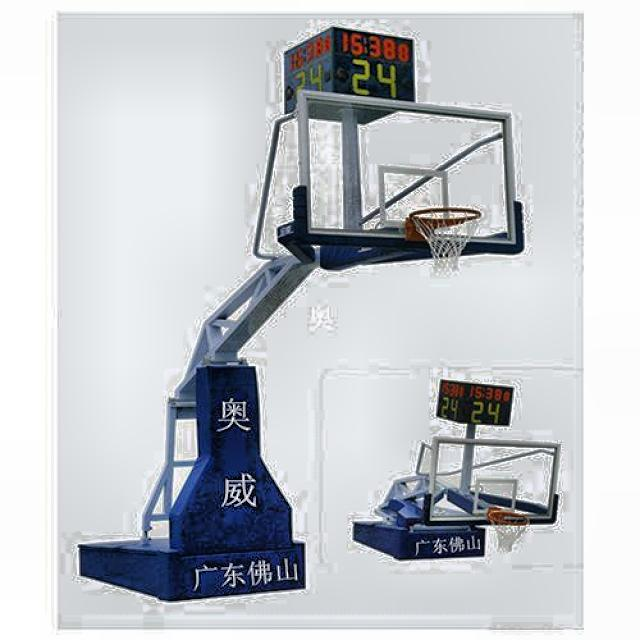rim: (411, 209, 481, 271)
